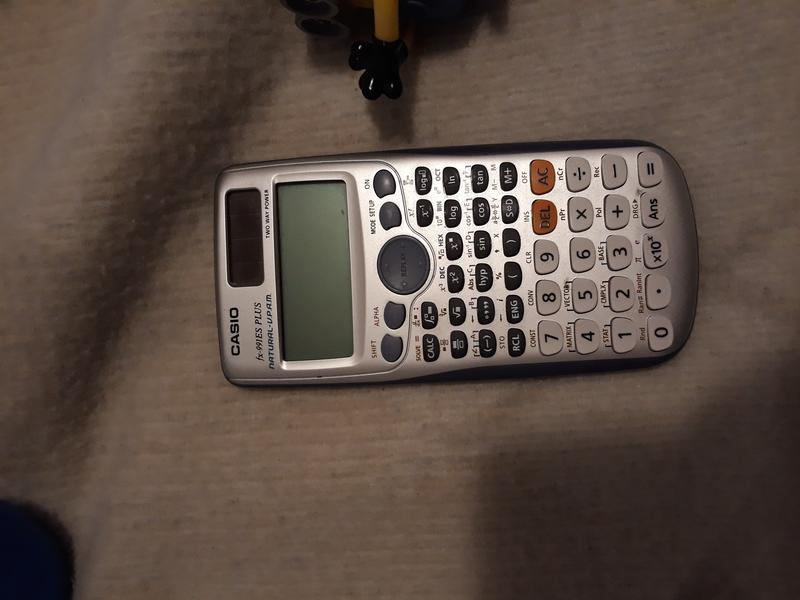CASIO_fx_991ES_PLUS: (205, 125, 708, 392)
